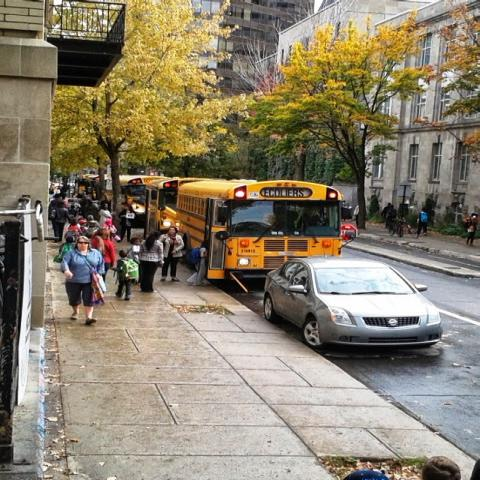bus: (175, 179, 358, 281), (138, 177, 218, 239), (119, 174, 173, 186), (75, 174, 94, 199), (85, 174, 100, 200)
car: (262, 255, 442, 349), (78, 182, 90, 188)
